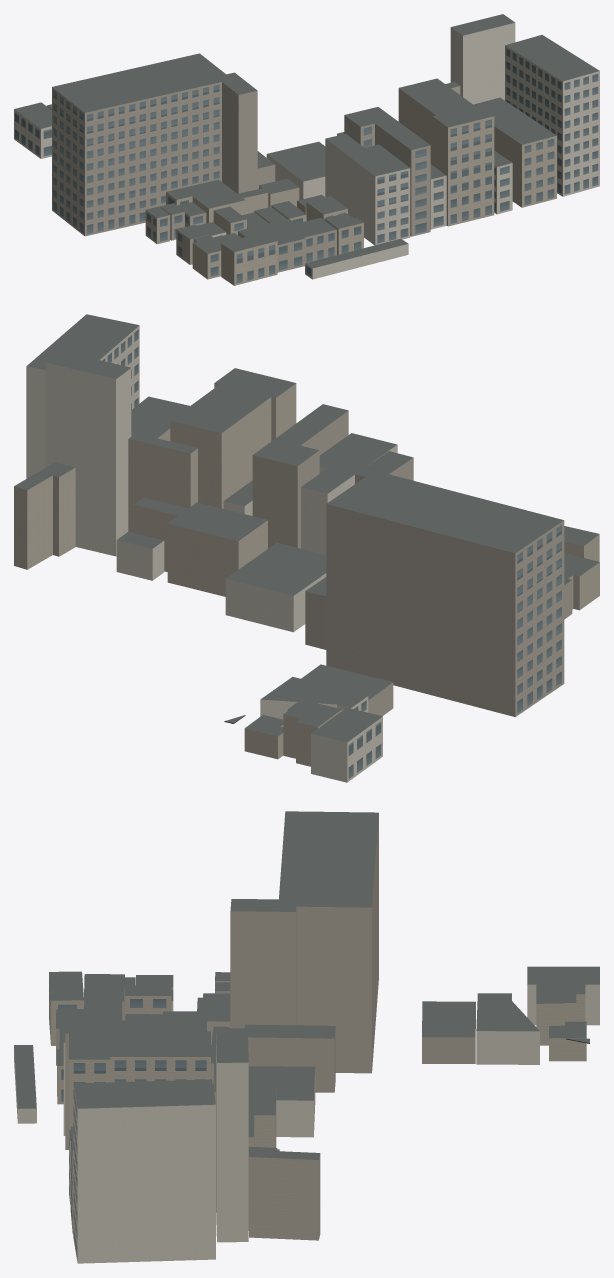
The picture shows the model from 3 angles, top to bottom: view 1: azimuth 30°, elevation 25°; view 2: azimuth 150°, elevation 25°; view 3: azimuth 270°, elevation 25°; orthographic projection. The views are drawn at different scales.
Visible parts, largest first — view 1: cell-e007-n000_base_roof, cell-e007-n000_base_tile-wall, cell-e007-n000_base_glass, cell-e007-n000_base_plaster, cell-e007-n000_base_stone; view 2: cell-e007-n000_base_tile-wall, cell-e007-n000_base_roof, cell-e007-n000_base_plaster, cell-e007-n000_base_stone, cell-e007-n000_base_glass; view 3: cell-e007-n000_base_roof, cell-e007-n000_base_plaster, cell-e007-n000_base_tile-wall, cell-e007-n000_base_stone, cell-e007-n000_base_glass.
Part boxes in pixels (x1,y1,x2,y2): cell-e007-n000_base_roof: [14, 14, 599, 268]; cell-e007-n000_base_tile-wall: [52, 82, 430, 272]; cell-e007-n000_base_glass: [15, 48, 598, 283]; cell-e007-n000_base_plaster: [14, 23, 599, 279]; cell-e007-n000_base_stone: [47, 86, 556, 285]; cell-e007-n000_base_tile-wall: [252, 411, 572, 717]; cell-e007-n000_base_roof: [14, 314, 599, 742]; cell-e007-n000_base_plaster: [26, 325, 397, 782]; cell-e007-n000_base_stone: [14, 383, 599, 766]; cell-e007-n000_base_glass: [102, 329, 561, 778]; cell-e007-n000_base_roof: [14, 811, 599, 1159]; cell-e007-n000_base_plaster: [14, 984, 599, 1263]; cell-e007-n000_base_tile-wall: [56, 815, 475, 1149]; cell-e007-n000_base_stone: [49, 975, 586, 1240]; cell-e007-n000_base_glass: [49, 979, 206, 1258].
Size of the model in its own units: 113 by 32.99 by 97.68.
6 materials, 4 textured.
